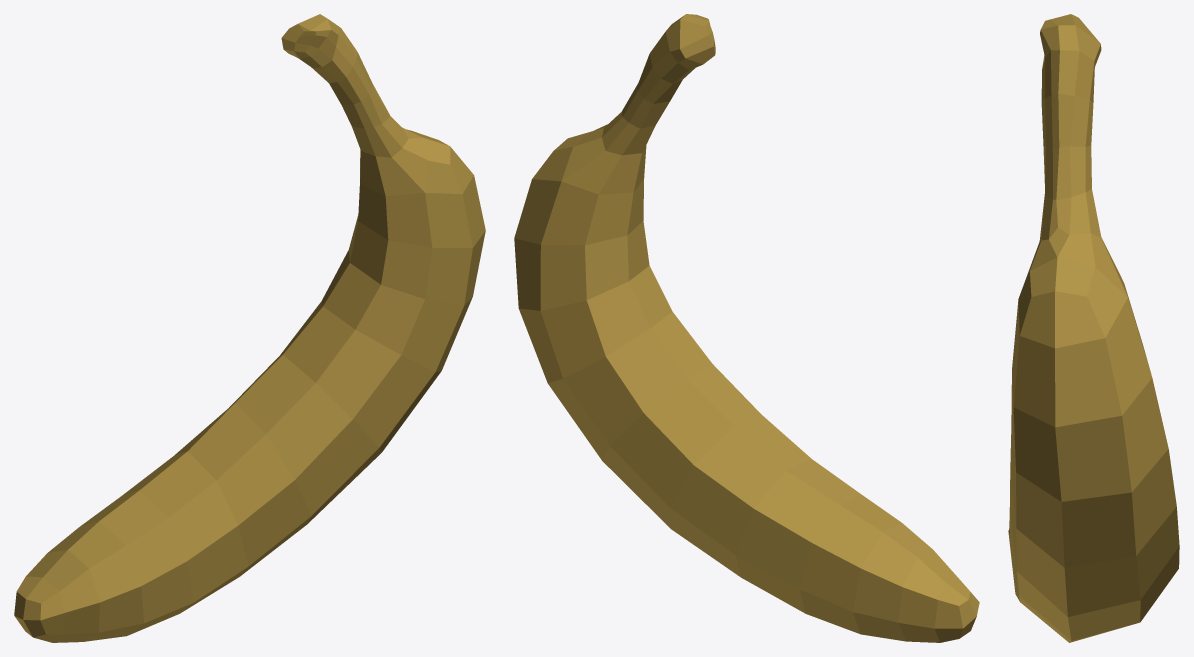
Rendered from Banana.glb.
3 renders of one model, left to right at view 1: azimuth 30°, elevation 25°; view 2: azimuth 150°, elevation 25°; view 3: azimuth 270°, elevation 25°, orthographic. The views are drawn at different scales.
Visible parts, largest first — view 1: Banana; view 2: Banana; view 3: Banana.
Boxes of the visible parts, x1,y1,x2,y2 form: Banana: [14, 14, 485, 642]; Banana: [514, 14, 979, 642]; Banana: [1008, 14, 1179, 642].
Bounding box in the file's own units: 0.1293 × 0.1545 × 0.034.
